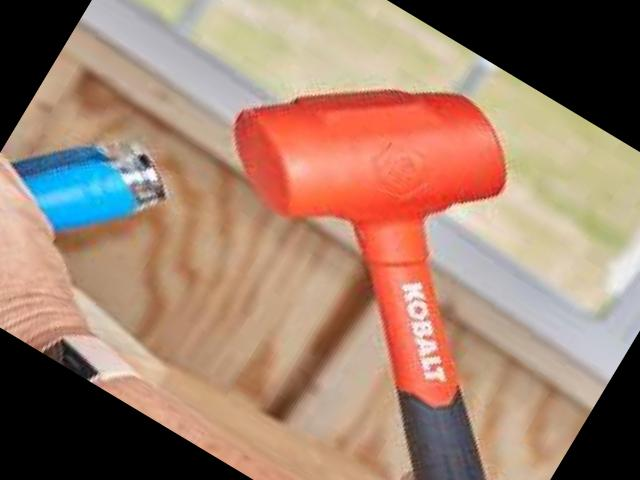hammer: (79, 0, 640, 480)
